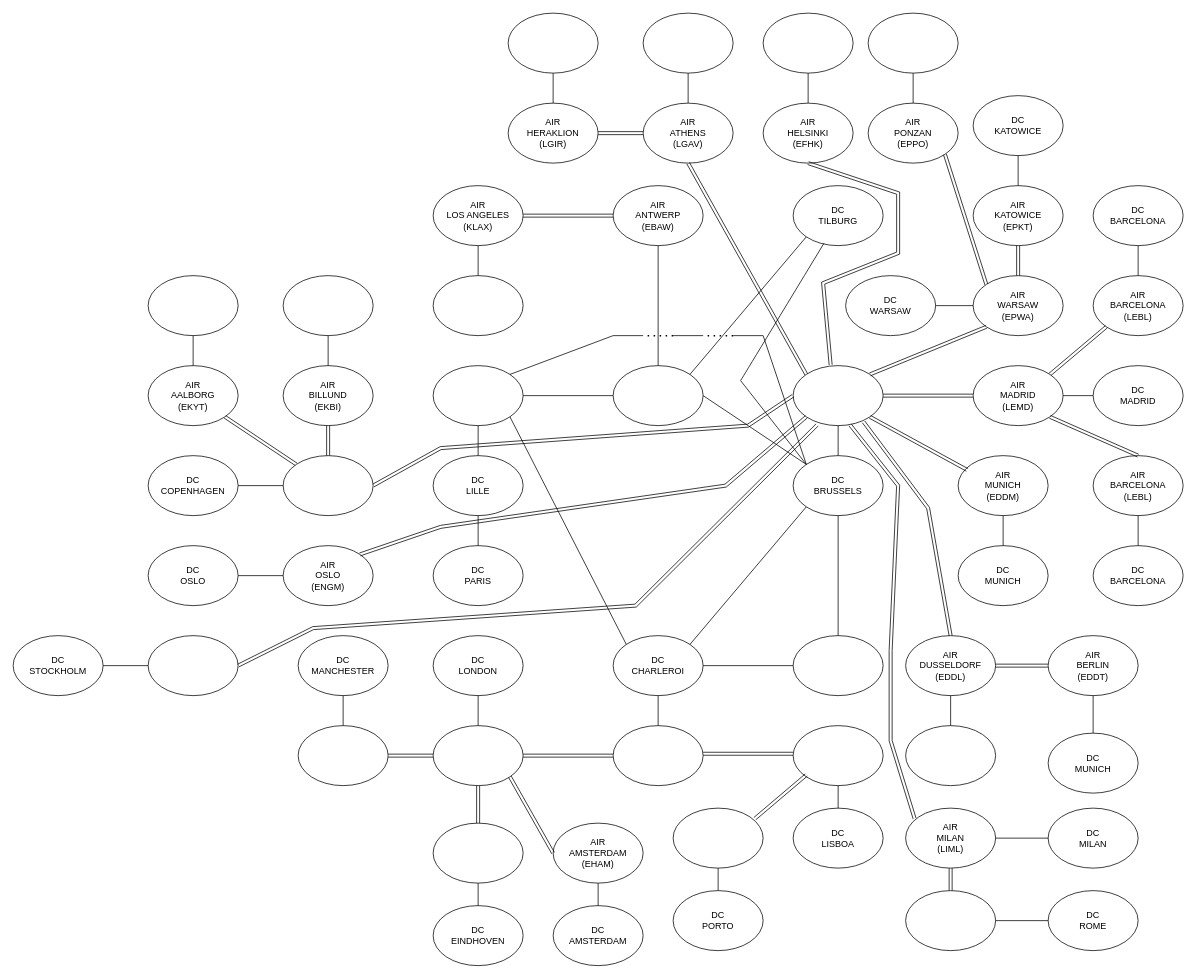
The diagram is 1196 pixels wide and 979 high, and some of its shapes have lost their labels. The centre of each missing label's shape, as x and y in pixels:
"AIR BRUSSELS (EBBR)" belongs at point 837,395.
"AIR CHARLEROI (EBCI)" belongs at point 657,755.
"AIR COPENHAGEN (EKCH)" belongs at point 327,485.
"AIR EINDHOVEN (EHEH)" belongs at point 477,852.
"AIR GATWICK (EGKK)" belongs at point 477,755.
"AIR LISBOA (LPPT)" belongs at point 837,755.
"AIR MANCHESTER (EGCC)" belongs at point 342,755.
"AIR PORTO (LPPR)" belongs at point 717,837.
"AIR ROME (LIRF)" belongs at point 950,920.
"AIR STOCKHOLM (ESSB)" belongs at point 192,665.
"DC AALBORG" belongs at point 192,305.
"DC ANTWERP" belongs at point 657,395.
"DC ATHENS" belongs at point 687,42.
"DC BASTOGNE" belongs at point 837,665.
"DC BILLUND" belongs at point 327,305.
"DC DUSSELDORF" belongs at point 950,755.
"DC GHENT" belongs at point 477,395.
"DC HELSINKI" belongs at point 807,42.
"DC HERAKLION" belongs at point 552,42.
"DC LOS ANGELES" belongs at point 477,305.
"DC PONZAN" belongs at point 912,42.
